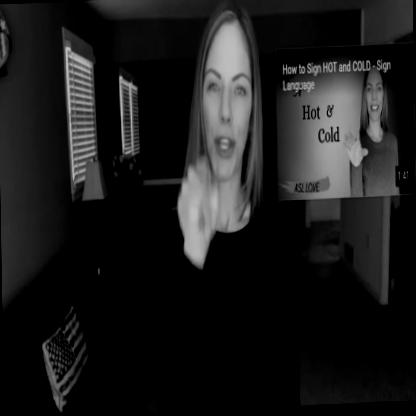NiceToMeetYou: (150, 0, 304, 413)
